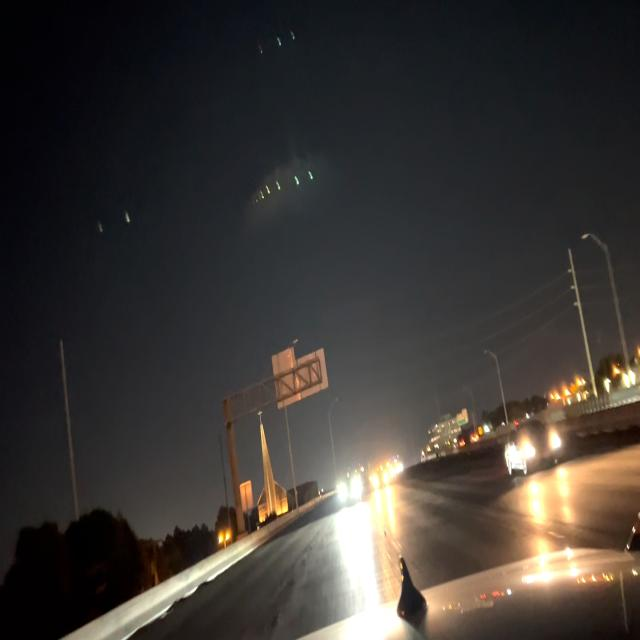back-of-sign: (271, 344, 328, 411), (239, 482, 254, 513)
